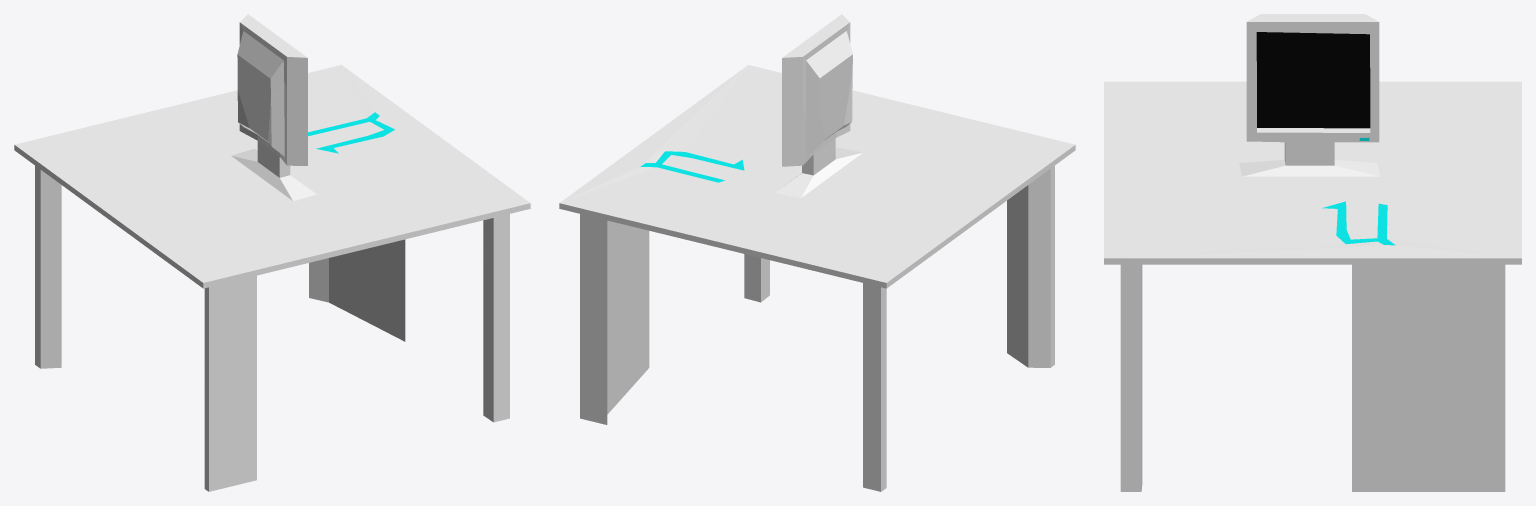
Rendered from komputer.fbx.
The picture shows the model from 3 angles, left to right: view 1: azimuth 30°, elevation 25°; view 2: azimuth 150°, elevation 25°; view 3: azimuth 270°, elevation 25°; orthographic projection. The views are drawn at different scales.
Visible parts, largest first — view 1: Cube, Куб; view 2: Cube, Куб; view 3: Cube, Куб.
Boxes of the visible parts, x1=… form: Cube: x1=14, y1=65, x2=530, y2=491; Куб: x1=231, y1=14, x2=316, y2=201; Cube: x1=559, y1=65, x2=1075, y2=491; Куб: x1=775, y1=14, x2=862, y2=197; Cube: x1=1104, y1=81, x2=1521, y2=491; Куб: x1=1239, y1=14, x2=1379, y2=176.
Bounding box in the file's own units: 350 × 362 × 350.
1 material, 1 textured.
